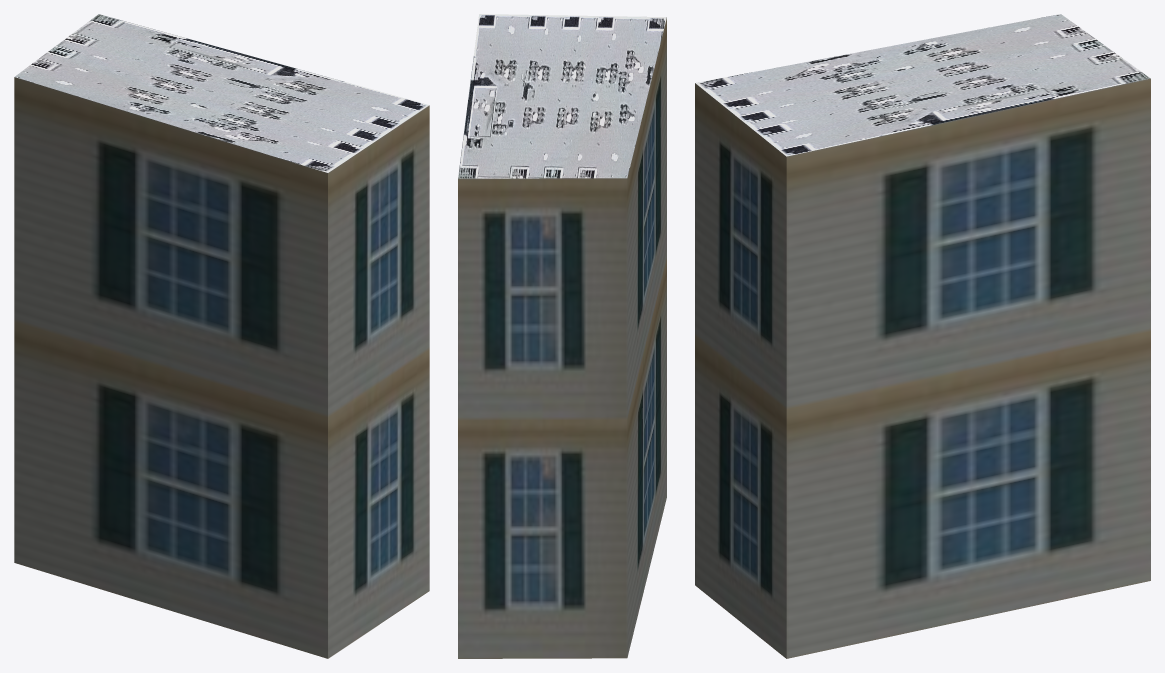
Rendered from ResTex__48.fbx.
3 views of the same model, side by side, from view 1: azimuth 30°, elevation 25°; view 2: azimuth 150°, elevation 25°; view 3: azimuth 270°, elevation 25° (orthographic). The views are drawn at different scales.
Parts seen in each view (by area): view 1: CityEngineMaterial_7_m, CityEngineMaterial_4_m; view 2: CityEngineMaterial_7_m, CityEngineMaterial_4_m; view 3: CityEngineMaterial_7_m, CityEngineMaterial_4_m.
Boxes of the visible parts, x1,y1,x2,y2 form: CityEngineMaterial_7_m: (14,77,429,658); CityEngineMaterial_4_m: (15,14,429,172); CityEngineMaterial_7_m: (458,18,666,658); CityEngineMaterial_4_m: (458,14,666,178); CityEngineMaterial_7_m: (695,78,1150,658); CityEngineMaterial_4_m: (695,14,1150,156).
Bounding box in the file's own units: 3.65 × 6 × 4.93.
2 materials, 2 textured.
